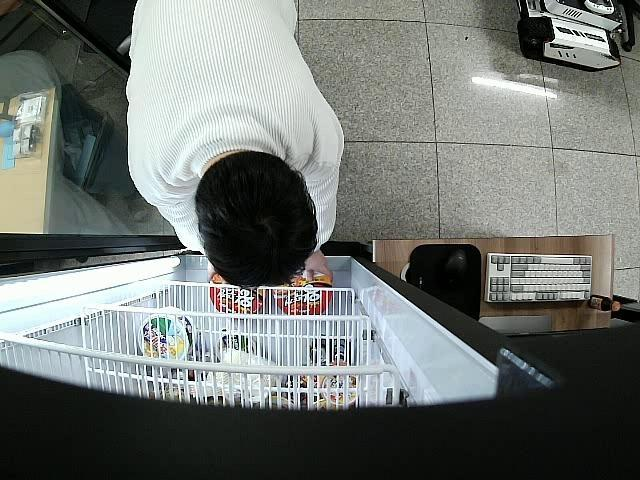10_wangTtukkeong: (276, 268, 332, 315)
